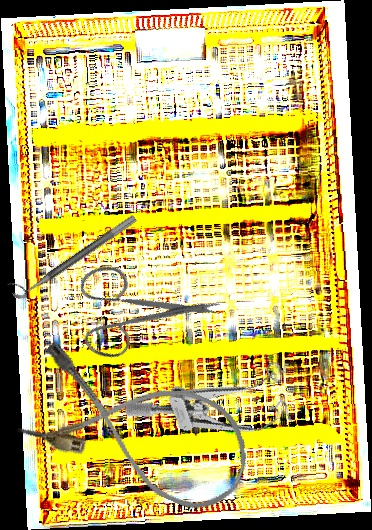Cannula: (11, 333, 265, 523)
Fixation Ring: (6, 204, 138, 303)
Iris Scissors: (50, 219, 228, 394)
Speculum: (121, 346, 310, 474)
